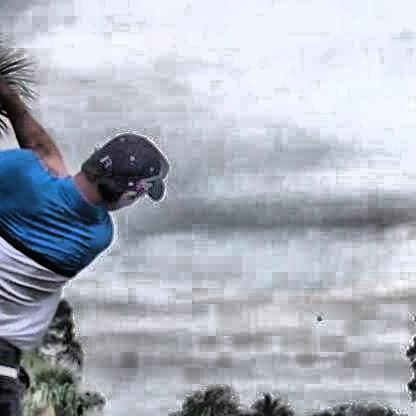golfball: (315, 314, 320, 319)
